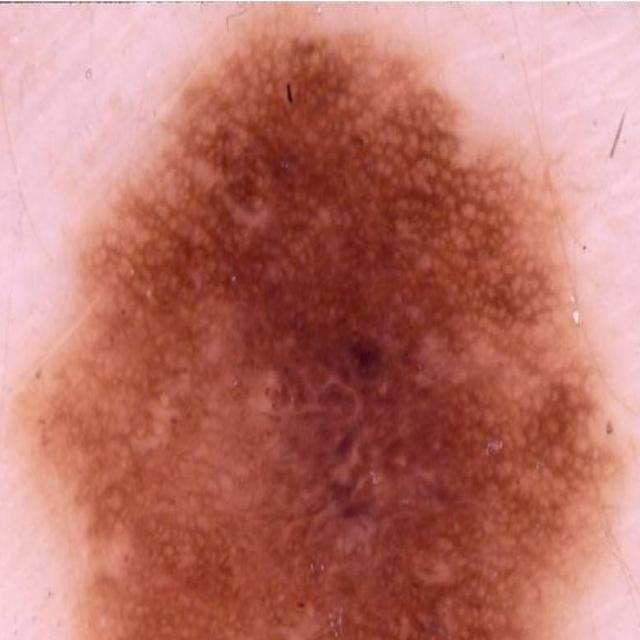Melanoma: (29, 10, 630, 640)
